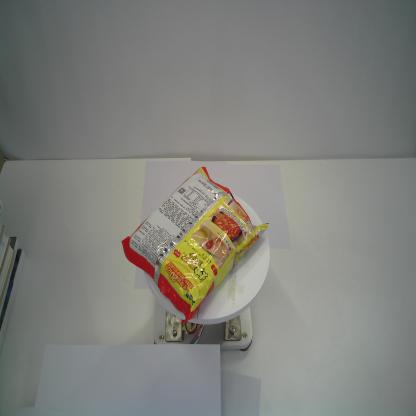Instant Noodles: (120, 166, 270, 328)
